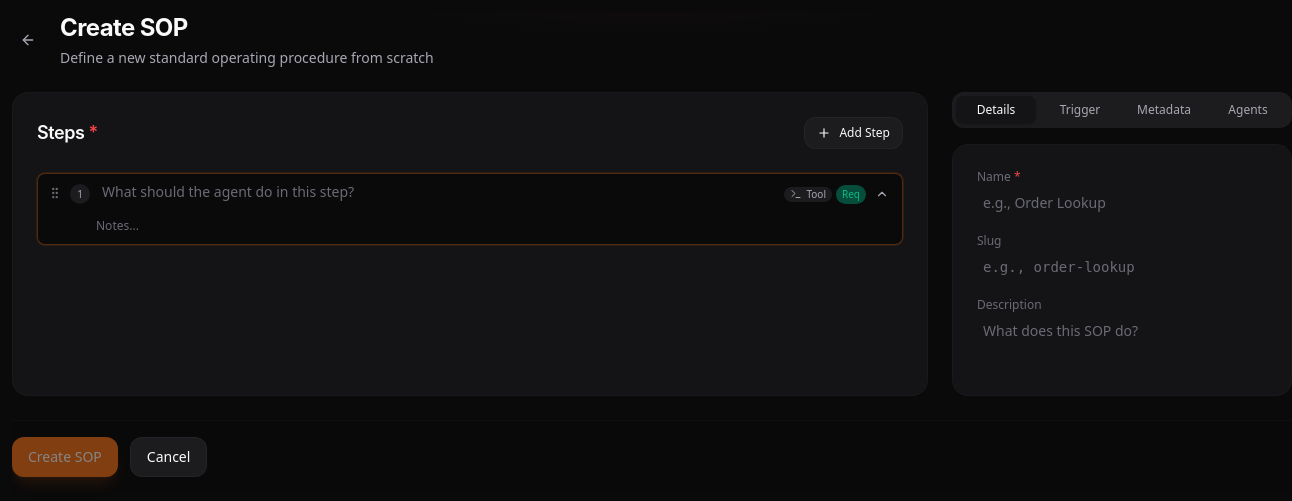
NewSopPage › agents section › shows available agents with checkboxes
Click the button "Agents". click: (1248, 110)
box: [1208,96,1288,124]
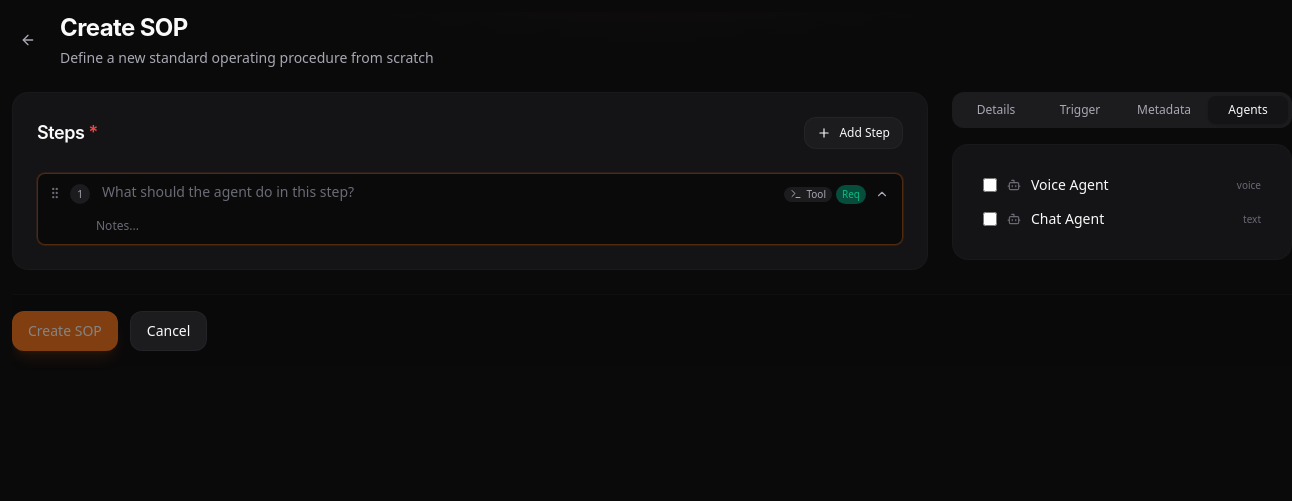
Expected: the text "Voice Agent" is shown, [1031,175,1109,194]
Expected: the text "Chat Agent" is shown, [1031,209,1104,228]
